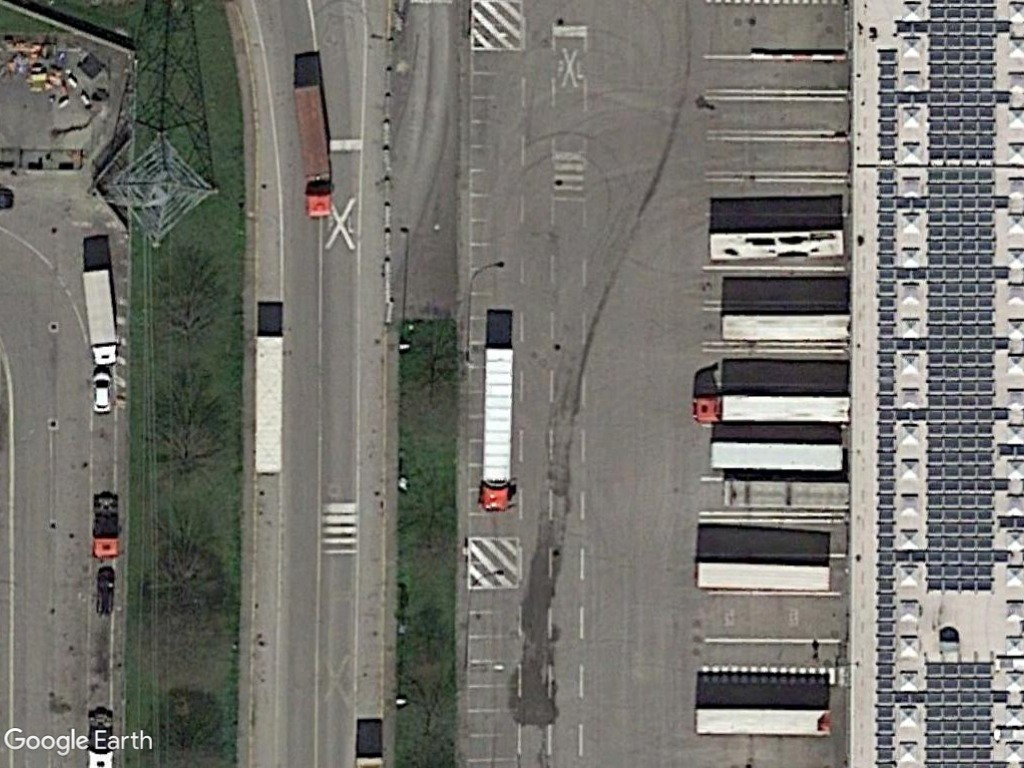car: (89, 368, 118, 418)
longvehicle: (475, 341, 518, 515), (688, 389, 854, 430), (690, 554, 833, 596), (704, 224, 848, 265), (293, 82, 335, 220), (688, 701, 835, 739), (703, 436, 846, 475), (251, 331, 287, 476), (717, 308, 853, 343)
other: (90, 493, 123, 564)
truck: (78, 265, 122, 367)
